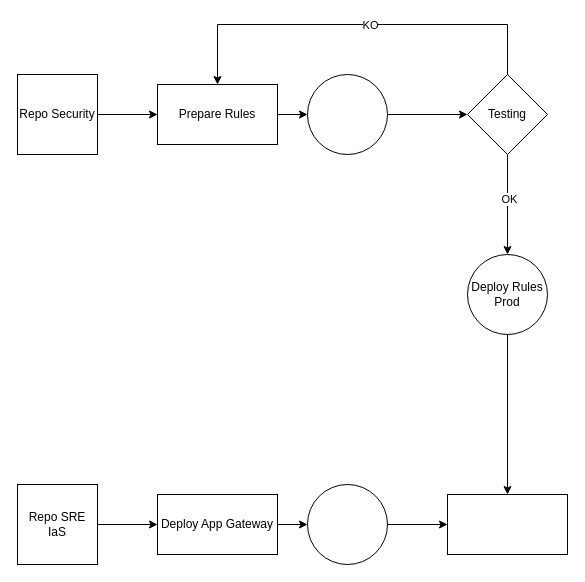
Some shapes in this 585 by 582 pixel diagram are drawn without their labels. The shapes that lost their labels are listed below. From the top down, each one's centre as x and y in pixels, then its label:
At point (347, 114): "Deploy Rules QA".
At point (347, 524): "Deploy Empty policy".
At point (507, 524): "WAF".
